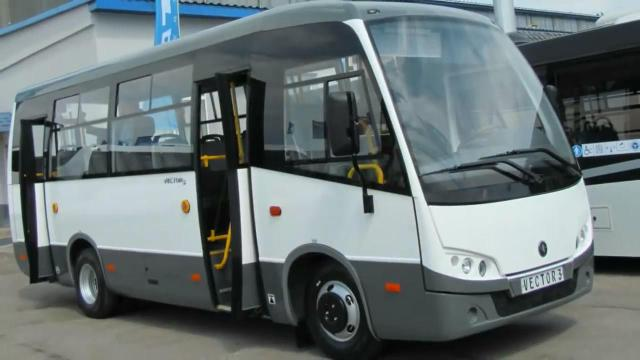bus: (5, 0, 598, 360), (518, 1, 640, 275)
